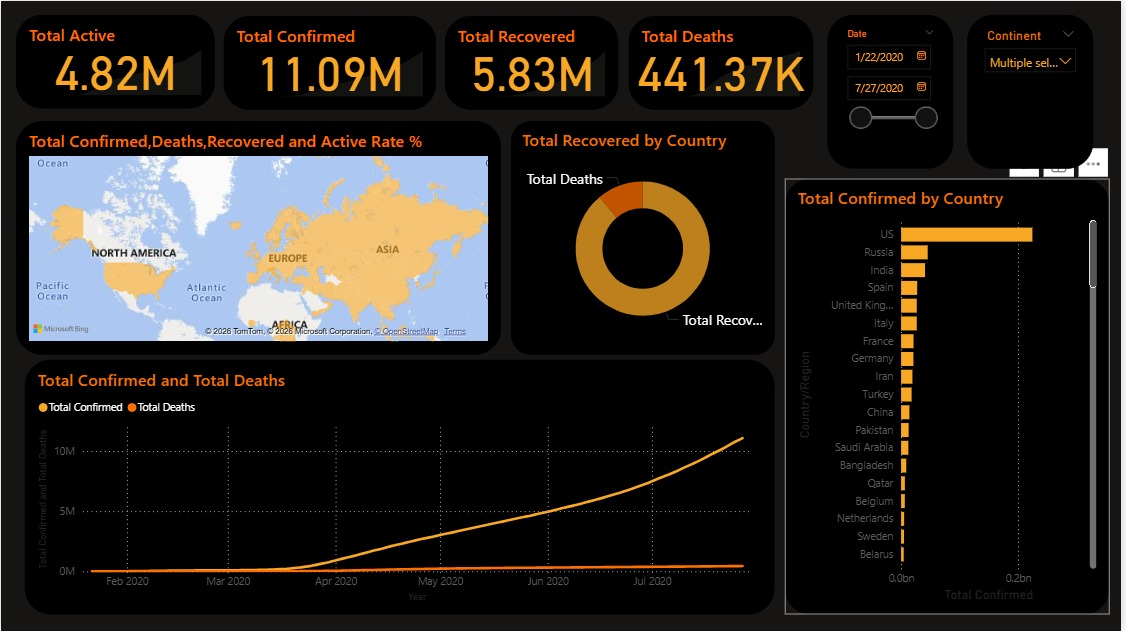

The dashboard page shown, as its layout file describes it:
{"tool":"powerbi","page":{"name":"GLOBAL OVERVIEW","canvas":[1280,720],"ordinal":0},"visuals":[{"type":"kpi","title":"Total Confirmed","fields":{"Indicator":["DAX.Total Confirmed"],"TrendLine":["Calendar.Date"]},"box":[254.3,17.1,242.9,107.1],"z":1000},{"type":"kpi","title":"Total Deaths ","fields":{"Indicator":["DAX.Total Deaths"],"TrendLine":["Calendar.Date"]},"box":[717.1,17.1,211.4,107.1],"z":2000},{"type":"kpi","title":"Total Recovered","fields":{"Indicator":["DAX.Total Recovered"],"TrendLine":["Calendar.Date"]},"box":[507.1,17.1,198.6,107.1],"z":3000},{"type":"kpi","title":"Total Active ","fields":{"Indicator":["DAX.Total Active"],"TrendLine":["Calendar.Date"]},"box":[17.1,15.7,227.1,107.1],"z":4000},{"type":"lineChart","title":"Total Confirmed and Total Deaths ","fields":{"Y":["DAX.Total Confirmed","DAX.Total Deaths"],"Category":["Calendar.Date.Variation.Date Hierarchy.Year","Calendar.Date.Variation.Date Hierarchy.Quarter","Calendar.Date.Variation.Date Hierarchy.Month","Calendar.Date.Variation.Date Hierarchy.Day"]},"box":[27.1,410,857.1,291.4],"z":5000},{"type":"filledMap","title":"Total Confirmed,Deaths,Recovered and Active Rate % ","fields":{"Category":["covid_19_clean_complete.Country/Region"],"Y":["DAX.Total Confirmed"]},"box":[17.1,137.1,554.3,267.1],"z":6000},{"type":"barChart","title":"Total Confirmed by Country","fields":{"Category":["covid_19_clean_complete.Country/Region"],"Y":["DAX.Total Confirmed"]},"box":[895.7,202.9,371.4,498.6],"z":7000},{"type":"slicer","fields":{"Values":["Calendar.Date"]},"box":[944,16,144,176],"z":8000},{"type":"slicer","fields":{"Values":["country_facts.worldometer_data.Continent"]},"box":[1104,16,144,176],"z":10000},{"type":"donutChart","title":"Total Recovered by Country","fields":{"Y":["DAX.Total Recovered","DAX.Total Deaths"]},"box":[582.9,137.1,301.4,267.1],"z":11000}]}

Visuals, with their boxes in screenshot pixels (x1, y1, x2, y2), scaled from the page's 1280x720 canvas onto the 1126x631 screenshot:
"Total Confirmed" kpi: [224, 15, 437, 109]
"Total Deaths " kpi: [631, 15, 817, 109]
"Total Recovered" kpi: [446, 15, 621, 109]
"Total Active " kpi: [15, 14, 215, 108]
"Total Confirmed and Total Deaths " lineChart: [24, 359, 778, 615]
"Total Confirmed,Deaths,Recovered and Active Rate % " filledMap: [15, 120, 503, 354]
"Total Confirmed by Country" barChart: [788, 178, 1115, 615]
slicer - Calendar.Date: [830, 14, 957, 168]
slicer - country_facts.worldometer_data.Continent: [971, 14, 1098, 168]
"Total Recovered by Country" donutChart: [513, 120, 778, 354]
